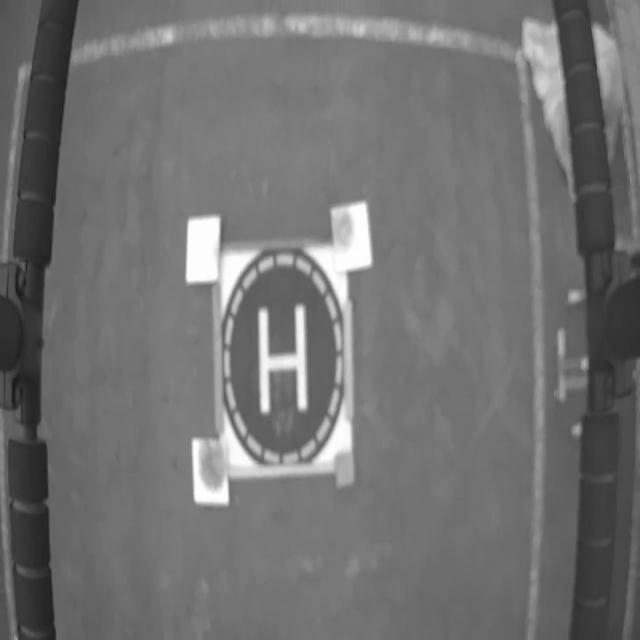Helipad: (259, 305, 309, 415)
